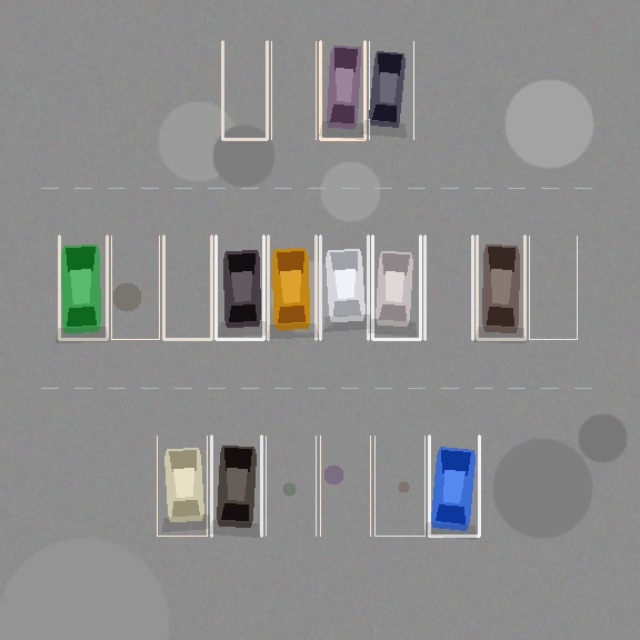space-empty: (266, 436, 316, 536), (320, 436, 370, 536), (374, 436, 424, 536), (111, 236, 159, 339), (163, 236, 211, 339), (424, 236, 472, 339), (529, 236, 577, 339), (222, 41, 267, 139), (271, 41, 316, 139)
space-occupied: (157, 436, 207, 536), (211, 436, 261, 536), (429, 436, 479, 536), (59, 236, 107, 339), (268, 236, 316, 339), (320, 236, 368, 339), (372, 236, 420, 339), (216, 236, 263, 339), (477, 236, 524, 339), (320, 41, 364, 139), (369, 41, 413, 139)
